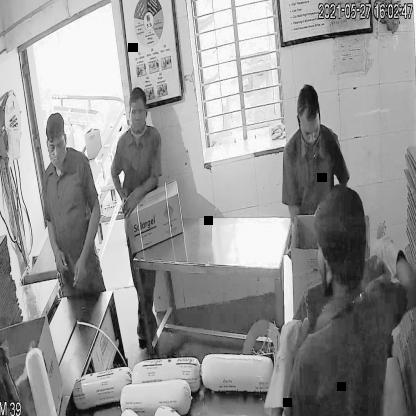no_goggles: (44, 133, 71, 158)
